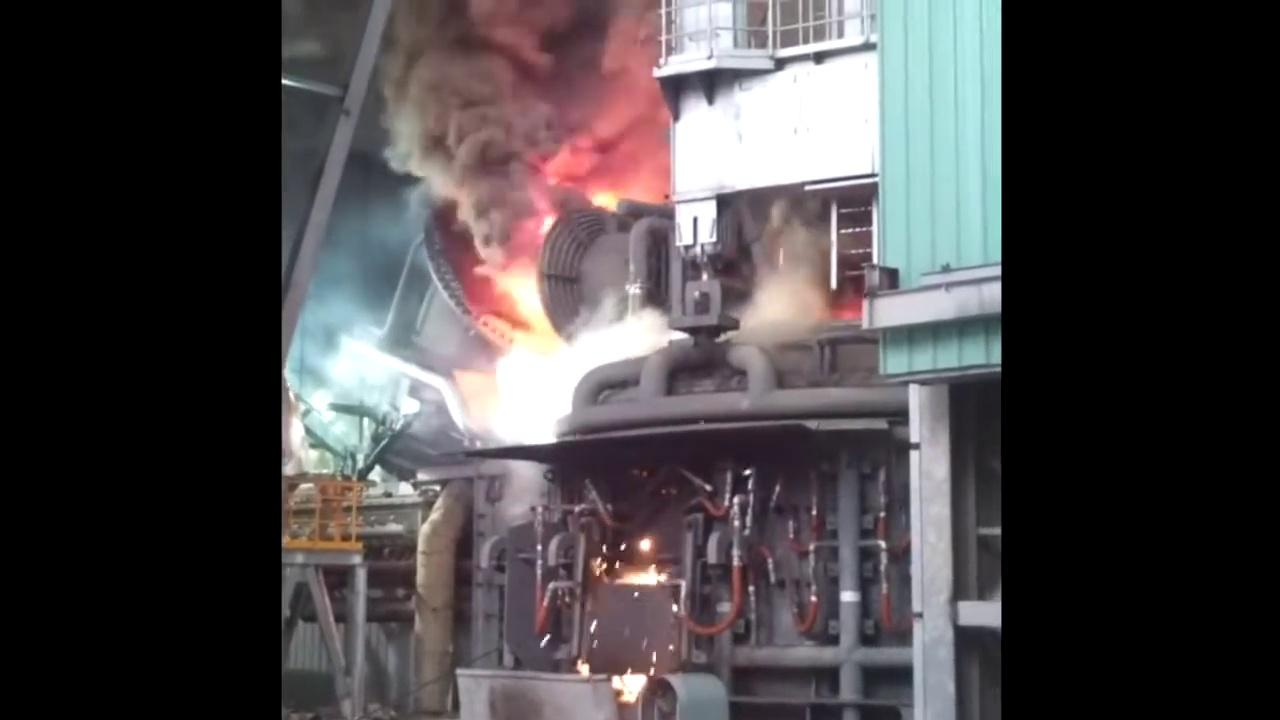fire: (332, 190, 803, 460)
